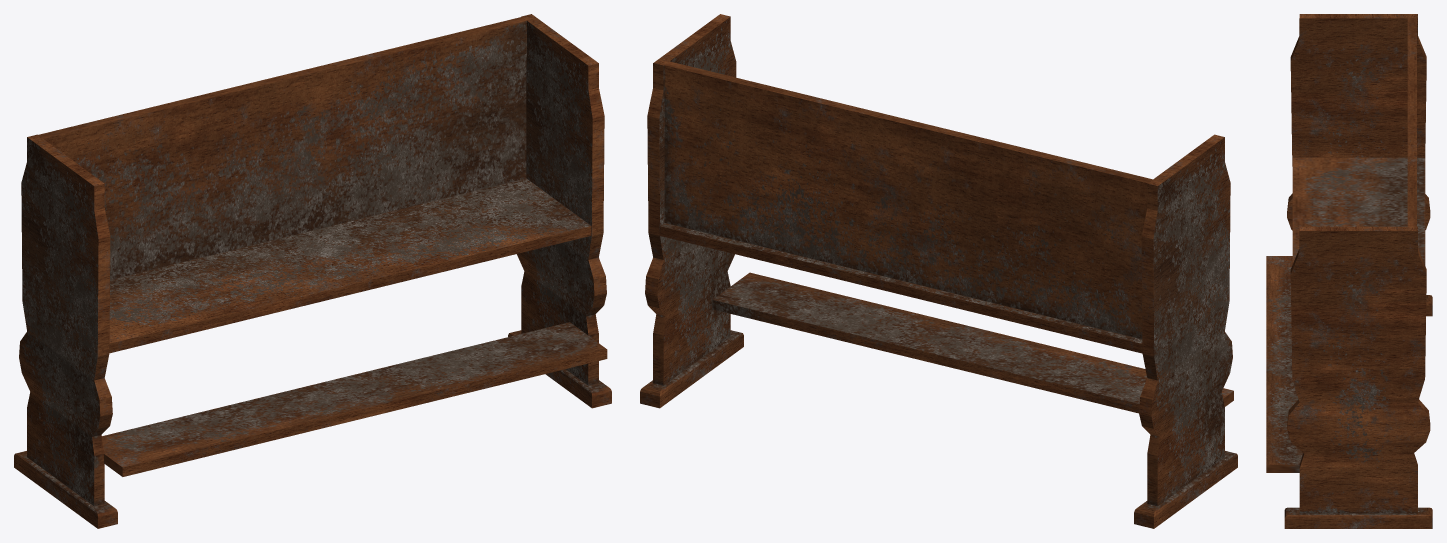
The model's file is church chairsTX.fbx.
3 renders of one model, left to right at view 1: azimuth 30°, elevation 25°; view 2: azimuth 150°, elevation 25°; view 3: azimuth 270°, elevation 25°, orthographic. The views are drawn at different scales.
Visible parts, largest first — view 1: _Chairs_Church; view 2: _Chairs_Church; view 3: _Chairs_Church.
Part boxes in pixels (x1,y1,x2,y2): _Chairs_Church: (14,14,611,528); _Chairs_Church: (640,14,1237,528); _Chairs_Church: (1266,14,1432,528).
Bounding box in the file's own units: 5796 × 3615 × 1844.
Materials: 1 (1 with a texture image).
